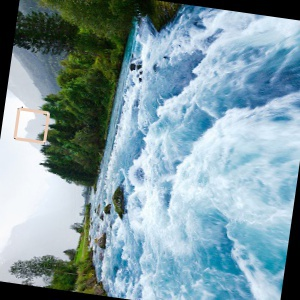square: (12, 104, 50, 146)
